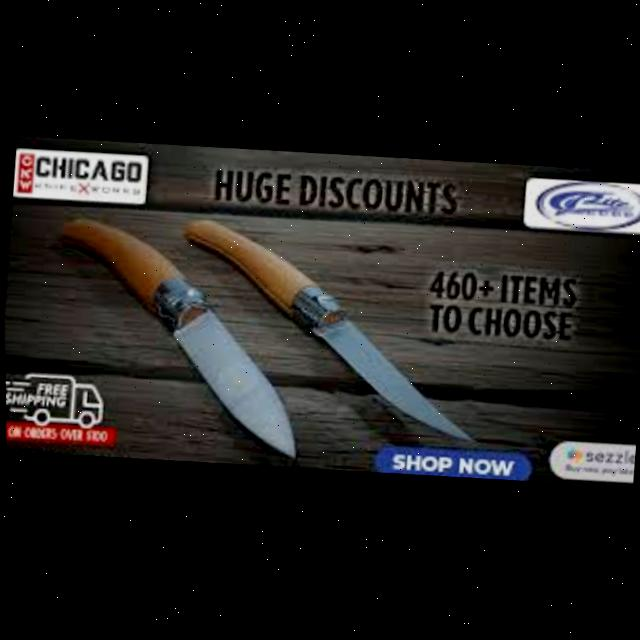knife: (163, 210, 490, 452), (42, 208, 313, 467)
